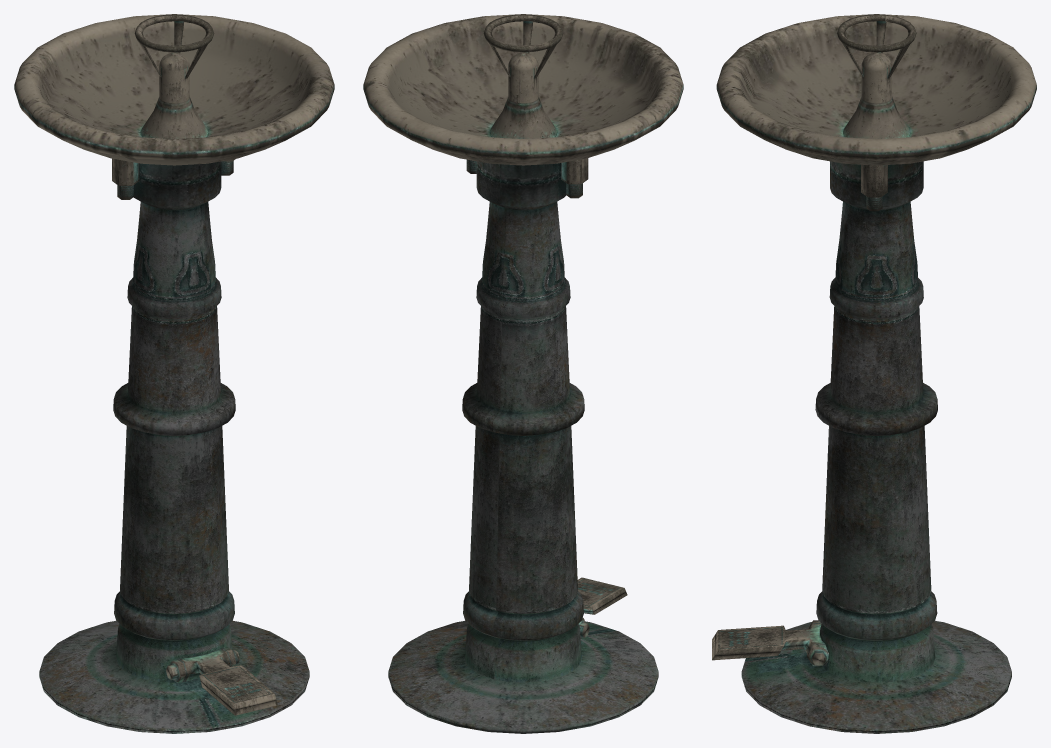
File: fountain.glb
3 renders of one model, left to right at view 1: azimuth 30°, elevation 25°; view 2: azimuth 150°, elevation 25°; view 3: azimuth 270°, elevation 25°, orthographic.
Visible parts, largest first — view 1: Cylinder.009_Cylinder.015; view 2: Cylinder.009_Cylinder.015; view 3: Cylinder.009_Cylinder.015.
Part boxes in pixels (x1=…): Cylinder.009_Cylinder.015: x1=14, y1=14, x2=334, y2=733; Cylinder.009_Cylinder.015: x1=363, y1=14, x2=683, y2=733; Cylinder.009_Cylinder.015: x1=712, y1=14, x2=1036, y2=733.
Size of the model in its own units: 0.8986 by 2 by 0.9115.
1 material, 1 textured.
